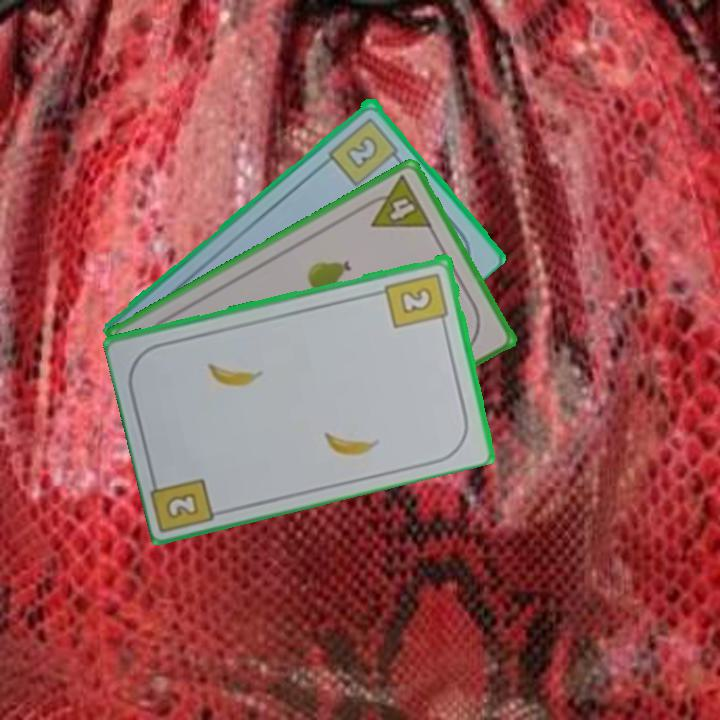2b: (325, 113, 405, 189), (382, 268, 452, 331), (162, 488, 203, 522)
4p: (358, 171, 435, 231)
